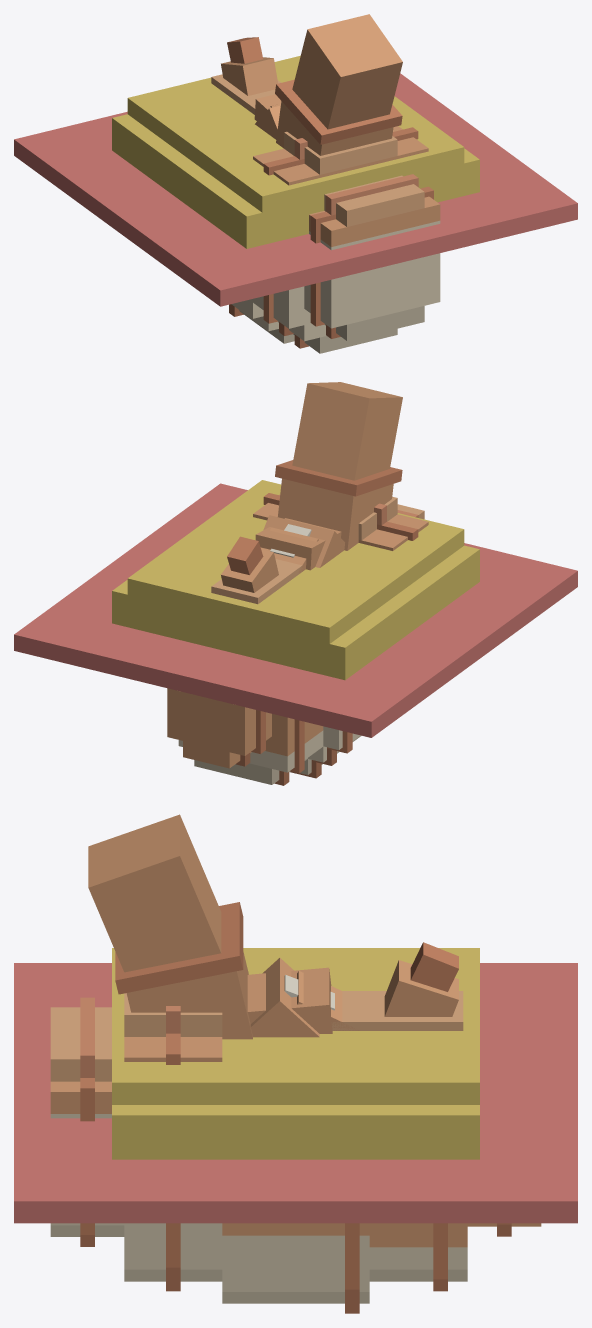
The model's file is Trainer1.glb.
3 views of the same model, one above another, from view 1: azimuth 30°, elevation 25°; view 2: azimuth 150°, elevation 25°; view 3: azimuth 270°, elevation 25° (orthographic). The views are drawn at different scales.
Parts seen in each view (by area): view 1: Stand, Body, Head, T1; view 2: Stand, Body, Head, T2, T1; view 3: Stand, Body, Head, T2, T1, T3.
Boxes of the visible parts, bbox=[...] form: Stand: bbox=[14, 55, 577, 306]; Body: bbox=[229, 14, 440, 353]; Head: bbox=[211, 37, 281, 114]; T1: bbox=[255, 105, 280, 139]; Stand: bbox=[14, 480, 577, 737]; Body: bbox=[167, 382, 428, 785]; Head: bbox=[211, 536, 302, 604]; T2: bbox=[255, 518, 341, 570]; T1: bbox=[263, 515, 344, 567]; Stand: bbox=[14, 948, 577, 1223]; Body: bbox=[50, 814, 541, 1313]; Head: bbox=[331, 942, 463, 1030]; T2: bbox=[247, 967, 332, 1033]; T1: bbox=[250, 958, 319, 1037]; T3: bbox=[297, 971, 359, 1030].
Bounding box in the file's own units: 9.2 × 8.09 × 9.2.
